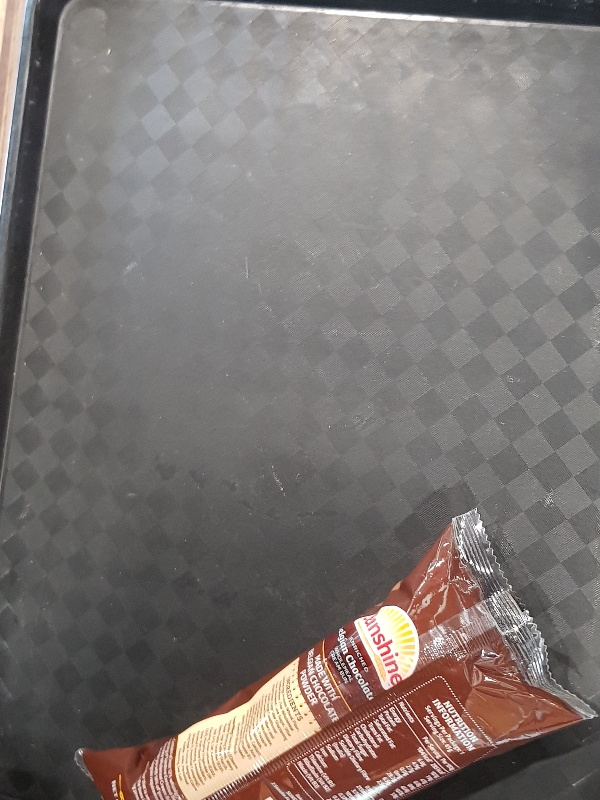Sunshine Belgium Chocolate Wholemeal Cream Bun: (70, 504, 599, 800)
